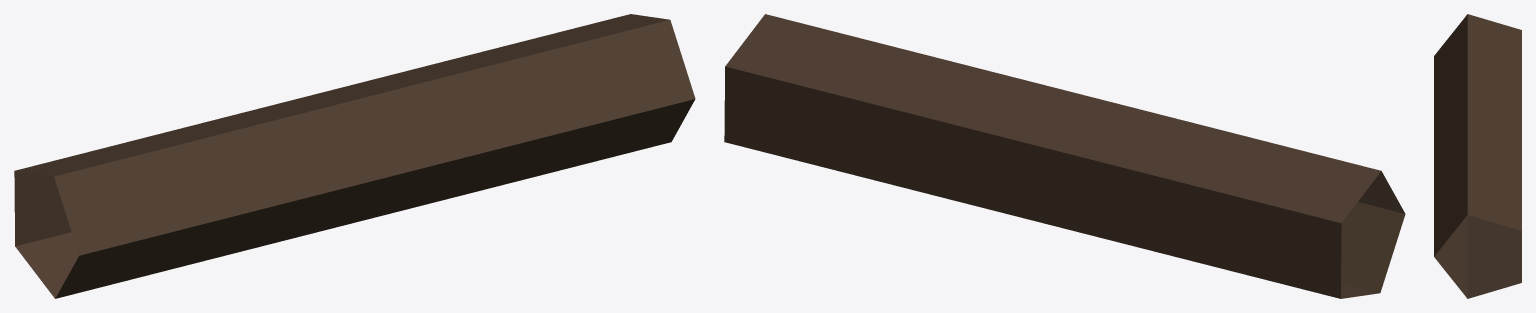
The model's file is fr_log_lod1.glb.
3 renders of one model, left to right at view 1: azimuth 30°, elevation 25°; view 2: azimuth 150°, elevation 25°; view 3: azimuth 270°, elevation 25°, orthographic. The views are drawn at different scales.
Visible parts, largest first — view 1: fr_log_lod1; view 2: fr_log_lod1; view 3: fr_log_lod1.
Part boxes in pixels (left/top/right/bottom): fr_log_lod1: left=14, top=14, right=695, bottom=298; fr_log_lod1: left=724, top=14, right=1405, bottom=298; fr_log_lod1: left=1434, top=14, right=1521, bottom=298.
Size of the model in its own units: 2 by 0.4004 by 0.3618.
